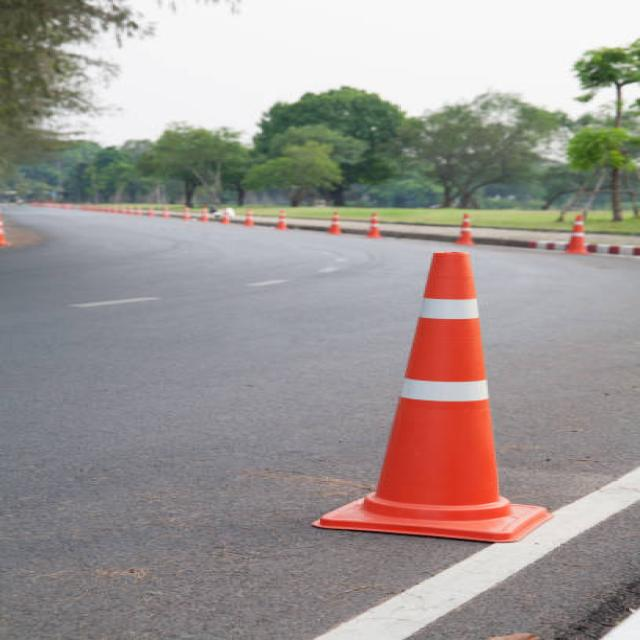Traffic Cone: (293, 218, 572, 554)
